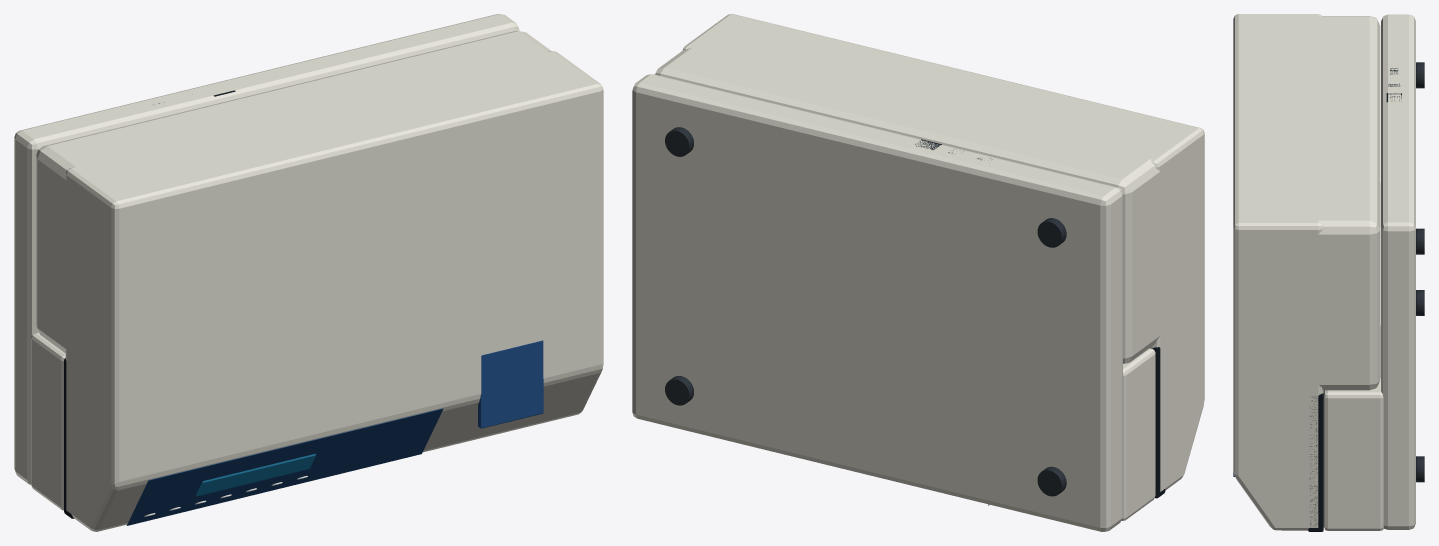
File: molecular_devices_spectramax_m5.glb
3 views of the same model, side by side, from view 1: azimuth 30°, elevation 25°; view 2: azimuth 150°, elevation 25°; view 3: azimuth 270°, elevation 25° (orthographic). The views are drawn at different scales.
Parts seen in each view (by area): view 1: Drawer front, Blue sloping control fascia, Green LCD; view 2: Drawer front, Isolating foot, Cuvette optical port; view 3: Drawer front, Cuvette optical port, Isolating foot.
Boxes of the visible parts, left/top/right/bottom form: Drawer front: left=14, top=14, right=603, bottom=531; Blue sloping control fascia: left=126, top=340, right=543, bottom=525; Green LCD: left=196, top=453, right=315, bottom=496; Drawer front: left=632, top=14, right=1204, bottom=531; Isolating foot: left=665, top=127, right=1066, bottom=496; Cuvette optical port: left=915, top=139, right=1165, bottom=498; Drawer front: left=1233, top=14, right=1415, bottom=530; Cuvette optical port: left=1308, top=68, right=1401, bottom=531; Isolating foot: left=1416, top=62, right=1424, bottom=482.
Bounding box in the file's own units: 0.58 × 0.3902 × 0.2202.
